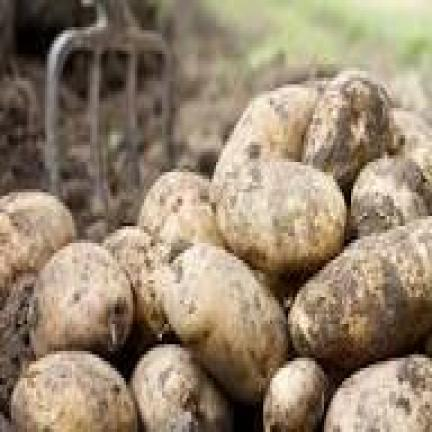potato: (290, 216, 430, 364), (164, 243, 286, 398), (216, 159, 342, 270), (29, 243, 130, 354), (214, 84, 317, 186), (304, 71, 389, 189), (14, 351, 135, 429), (130, 348, 230, 429), (324, 354, 430, 429), (104, 226, 169, 341), (137, 172, 220, 250), (351, 159, 430, 233), (0, 196, 74, 267), (266, 358, 326, 429), (0, 213, 27, 300), (394, 108, 430, 148), (400, 142, 430, 186)
